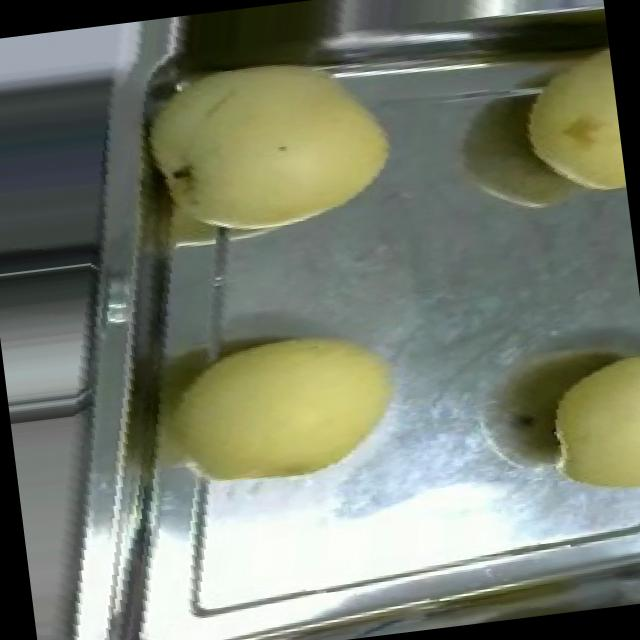Fruit: (112, 13, 420, 268), (141, 298, 422, 514), (504, 33, 628, 214), (529, 338, 640, 513)
